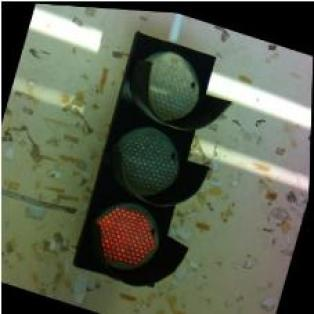Semaforo Rojo: (68, 24, 236, 298)
